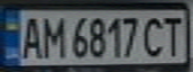1: (106, 15, 124, 57)
6: (66, 14, 90, 58)
7: (121, 14, 142, 58)
8: (87, 14, 109, 58)
A: (18, 13, 45, 60)
C: (139, 14, 169, 58)
M: (39, 14, 66, 58)
T: (160, 12, 187, 57)
